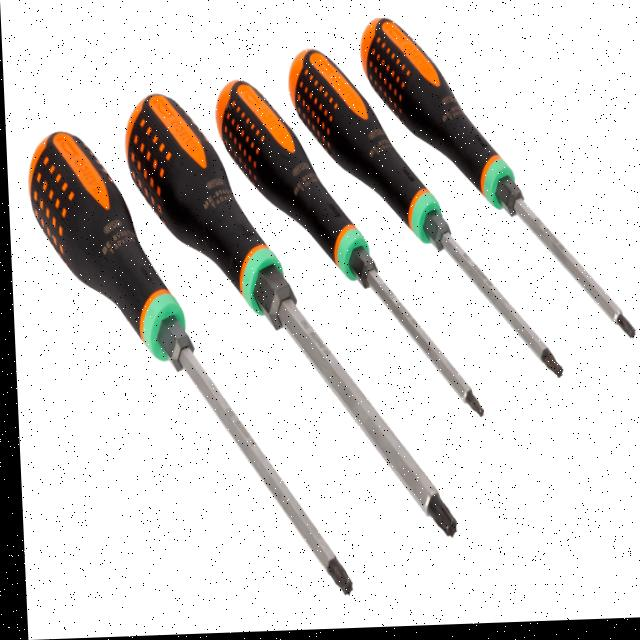Screwdriver: (27, 133, 346, 597), (124, 96, 450, 536), (288, 53, 559, 382), (215, 82, 479, 419), (360, 22, 631, 342)
